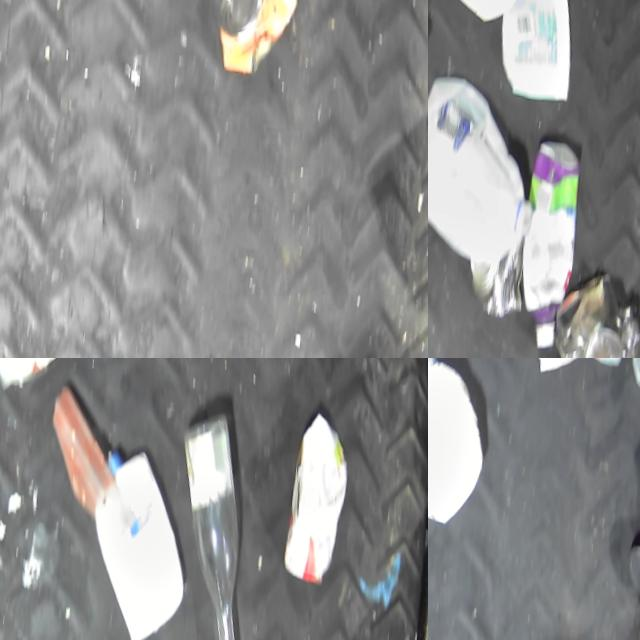can: (547, 248, 631, 358), (212, 0, 302, 78), (464, 242, 528, 315), (622, 507, 640, 603)
milk_jug: (80, 430, 196, 640), (428, 57, 543, 265)
